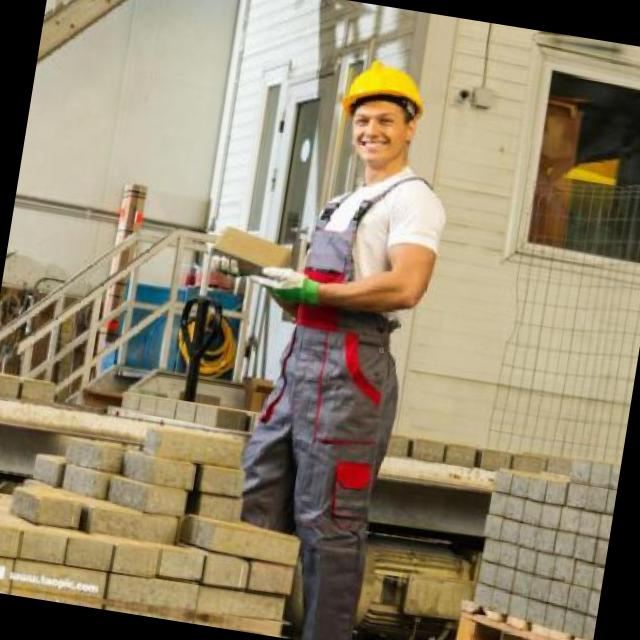helmet: (320, 44, 438, 182)
